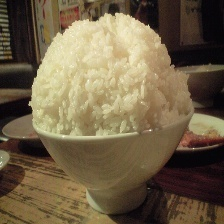rice: (26, 9, 193, 140)
